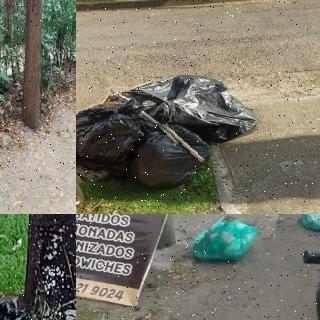Garbage: (116, 75, 259, 142), (76, 96, 145, 183), (128, 123, 210, 195), (186, 214, 264, 264), (0, 294, 36, 320), (297, 214, 320, 236)
